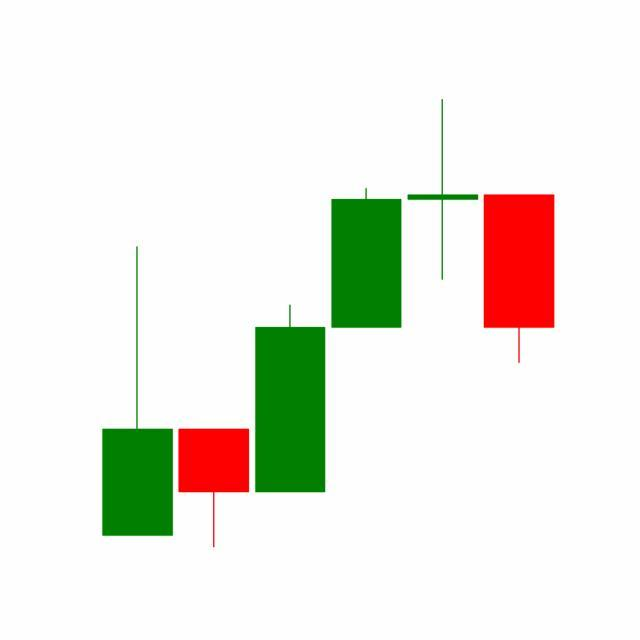Spinning Top: (404, 98, 482, 283)
